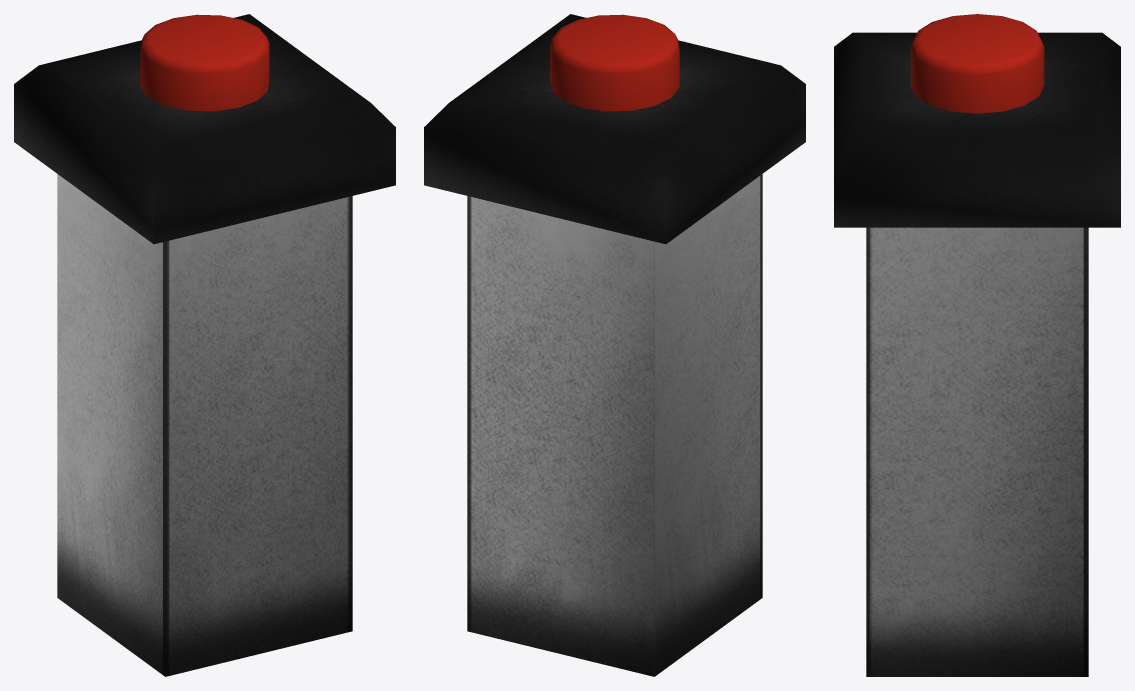
Rendered from Generator Button.fbx.
3 renders of one model, left to right at view 1: azimuth 30°, elevation 25°; view 2: azimuth 150°, elevation 25°; view 3: azimuth 270°, elevation 25°, orthographic. The views are drawn at different scales.
Visible parts, largest first — view 1: Generator Button Stand, Generator Button Button; view 2: Generator Button Stand, Generator Button Button; view 3: Generator Button Stand, Generator Button Button.
Boxes of the visible parts, bbox=[...] form: Generator Button Stand: bbox=[14, 14, 395, 676]; Generator Button Button: bbox=[140, 14, 269, 111]; Generator Button Stand: bbox=[424, 14, 805, 676]; Generator Button Button: bbox=[550, 14, 679, 111]; Generator Button Stand: bbox=[834, 32, 1120, 676]; Generator Button Button: bbox=[910, 14, 1044, 113].
Size of the model in its own units: 57.3 by 130 by 57.3.
